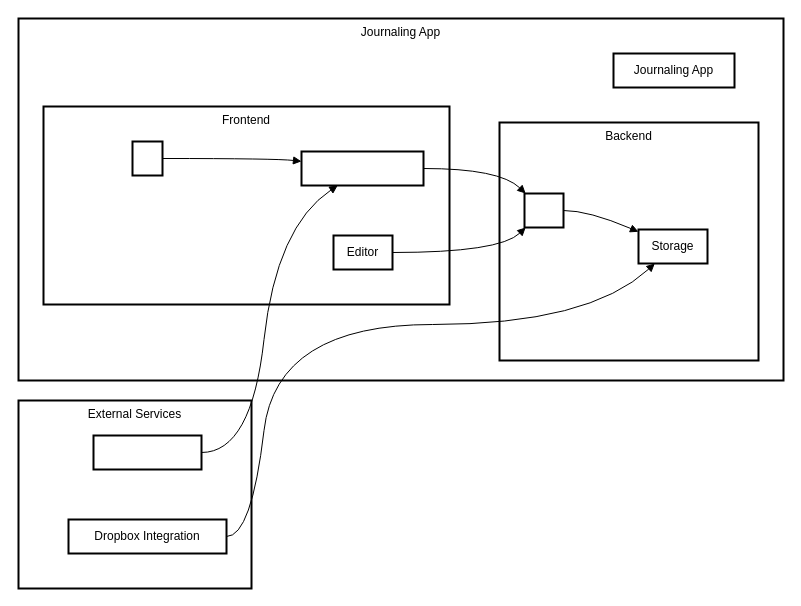
Image size: 801x606. Some labels were removed from this diagram. Here are the shapes that lost their labels. From the top down, the centre of each, then its label:
At point (147, 158): "UI".
At point (362, 168): "Authentication".
At point (543, 210): "API".
At point (147, 452): "Google Login".
